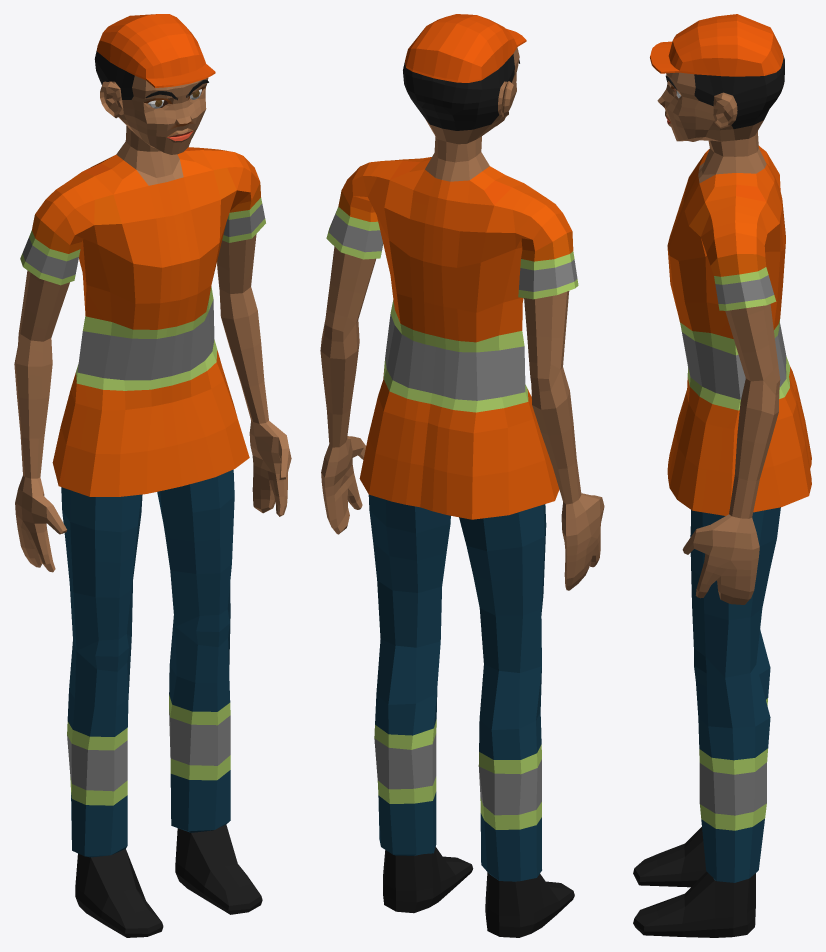
File: Garbageman_Stand.fbx
3 views of the same model, side by side, from view 1: azimuth 30°, elevation 25°; view 2: azimuth 150°, elevation 25°; view 3: azimuth 270°, elevation 25° (orthographic). The views are drawn at different scales.
Visible parts, largest first — view 1: Garbageman_Stand; view 2: Garbageman_Stand; view 3: Garbageman_Stand.
Part boxes in pixels (x1,y1,x2,y2): Garbageman_Stand: [14, 14, 291, 937]; Garbageman_Stand: [320, 14, 604, 937]; Garbageman_Stand: [633, 14, 811, 937].
Size of the model in its own units: 0.3234 by 1.05 by 0.1935.
